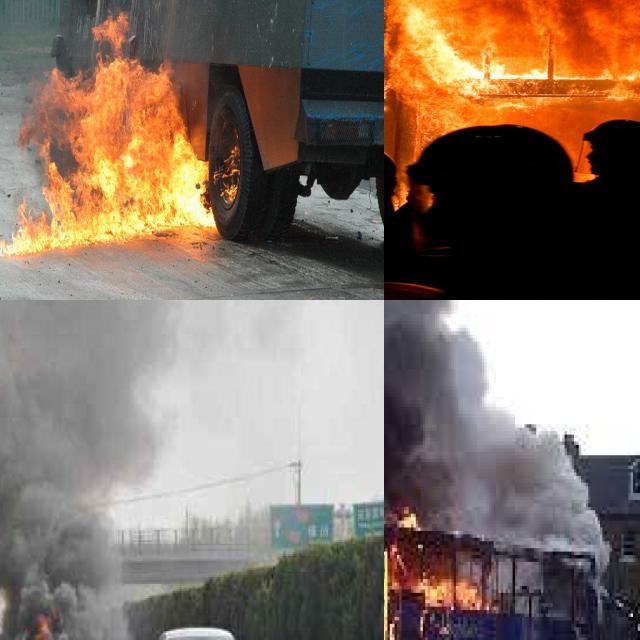fire: (0, 11, 225, 261), (384, 0, 640, 154), (418, 517, 503, 631), (0, 612, 110, 640)
smoke: (0, 300, 179, 640), (384, 300, 607, 548)
